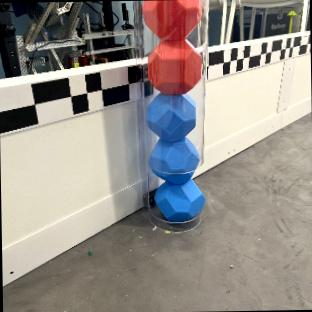V5_BLUE: (146, 94, 195, 139), (148, 137, 199, 180), (155, 178, 203, 221)
V5_RED: (147, 37, 201, 94), (143, 0, 200, 40)
